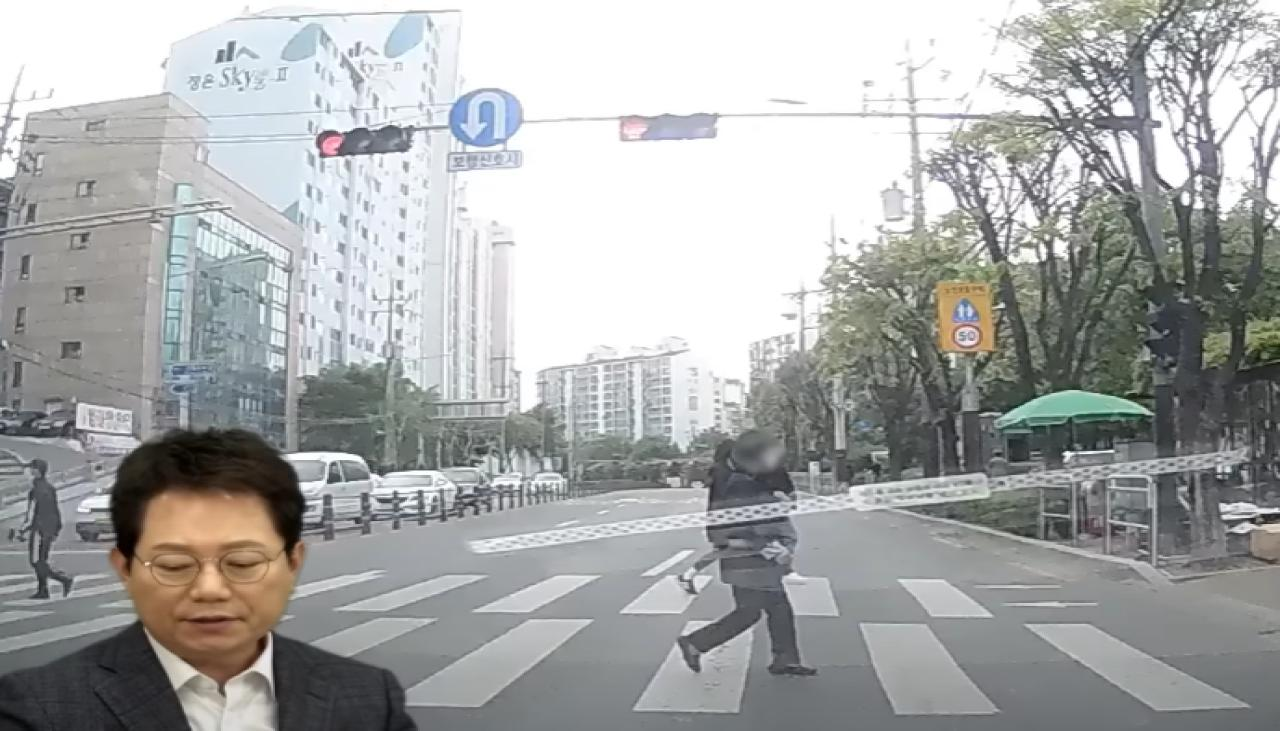Red Light: (612, 110, 653, 142), (312, 126, 350, 158)
